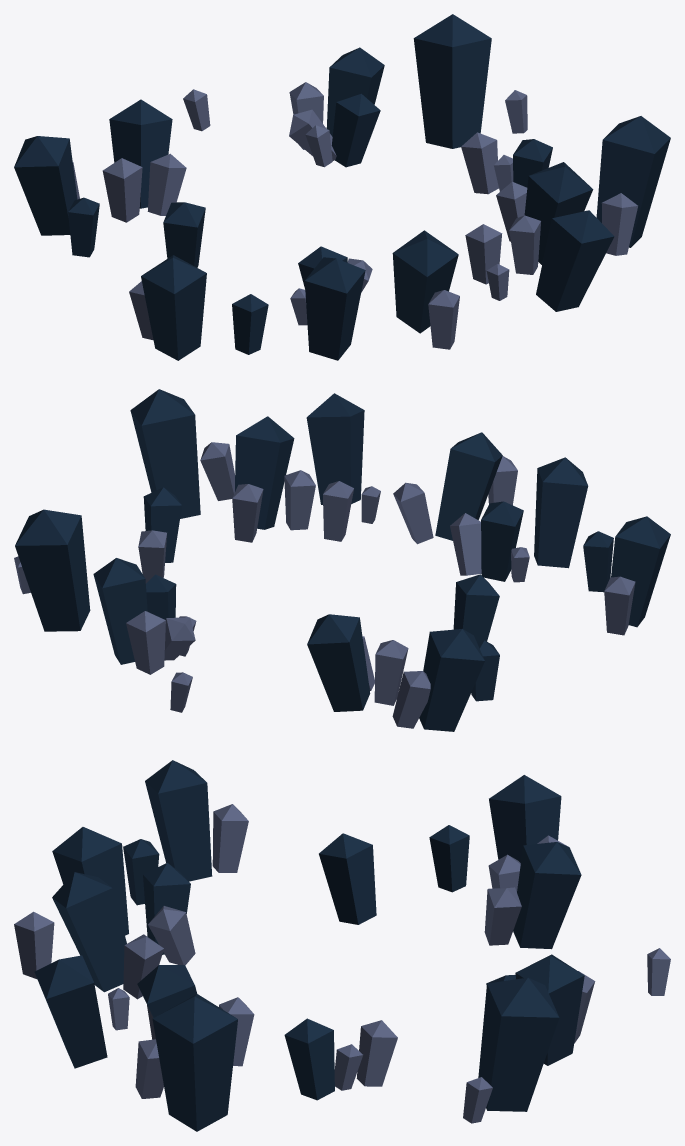
Rendered from meditcrystals.dae.
3 views of the same model, one above another, from view 1: azimuth 30°, elevation 25°; view 2: azimuth 150°, elevation 25°; view 3: azimuth 270°, elevation 25° (orthographic). The views are drawn at different scales.
Parts seen in each view (by area): view 1: Cone_024, Cone_011, Cone_035, Cone_027, Cone, Cone_008, Cone_016, Cone_032, Cone_019, Cone_003, Cone_030, Cone_001 (+20 smaller); view 2: Cone_024, Cone_011, Cone_008, Cone, Cone_032, Cone_035, Cone_019, Cone_016, Cone_027, Cone_003, Cone_034, Cone_001 (+20 smaller); view 3: Cone_011, Cone_024, Cone_027, Cone_016, Cone_032, Cone_035, Cone_008, Cone_001, Cone, Cone_003, Cone_005, Cone_010 (+17 smaller).
Part boxes in pixels (box(x1,y1,x2,y2)): Cone_024: box(413, 14, 491, 148); Cone_011: box(596, 116, 670, 247); Cone_035: box(536, 210, 614, 311); Cone_027: box(141, 255, 206, 360); Cone: box(304, 257, 365, 360); Cone_008: box(14, 136, 77, 235); Cone_016: box(392, 230, 458, 333); Cone_032: box(109, 99, 172, 208); Cone_019: box(524, 162, 593, 264); Cone_003: box(326, 47, 384, 136); Cone_030: box(331, 93, 380, 167); Cone_001: box(163, 202, 205, 267); Cone_024: box(15, 509, 90, 631); Cone_011: box(130, 389, 200, 518); Cone_008: box(419, 629, 484, 731); Cone: box(534, 457, 588, 568); Cone_032: box(307, 614, 370, 711); Cone_035: box(306, 393, 364, 504); Cone_019: box(235, 416, 294, 529); Cone_016: box(435, 432, 502, 540); Cone_027: box(611, 516, 670, 627); Cone_003: box(93, 558, 147, 664); Cone_034: box(481, 501, 523, 581); Cone_001: box(453, 574, 499, 642); Cone_011: box(152, 994, 237, 1131); Cone_024: box(478, 977, 559, 1111); Cone_027: box(145, 760, 212, 881); Cone_016: box(52, 872, 126, 992); Cone_032: box(513, 842, 581, 949); Cone_035: box(34, 955, 107, 1068); Cone_008: box(489, 775, 561, 862); Cone_001: box(319, 833, 376, 924); Cone: box(52, 827, 128, 935); Cone_003: box(515, 954, 584, 1065); Cone_005: box(284, 1018, 334, 1100); Cone_010: box(429, 825, 469, 892).
Bounding box in the file's own units: 52.78 × 51.61 × 11.7.
